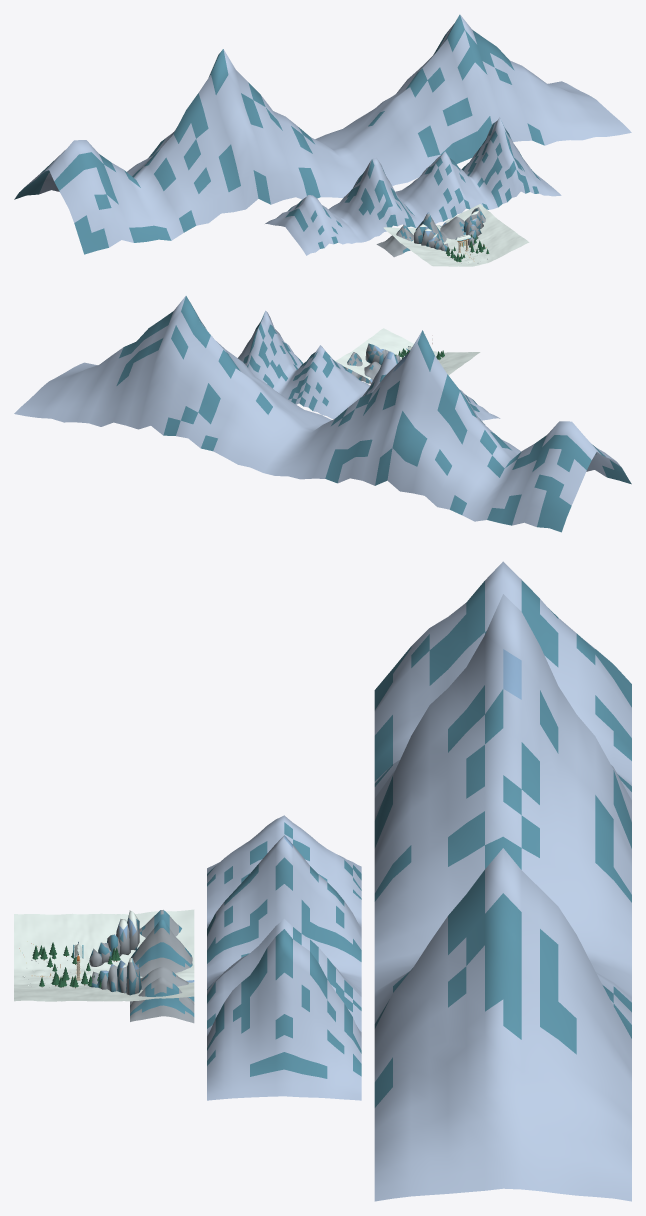
The model's file is SP_snowpass.glb.
3 views of the same model, one above another, from view 1: azimuth 30°, elevation 25°; view 2: azimuth 150°, elevation 25°; view 3: azimuth 270°, elevation 25° (orthographic). The views are drawn at different scales.
Parts seen in each view (by area): view 1: SP_mtn_far, SP_ground, SP_mtn_mid, SP_mtn_near; view 2: SP_mtn_far, SP_ground, SP_mtn_mid, SP_mtn_near; view 3: SP_mtn_far, SP_ground, SP_mtn_mid, SP_mtn_near, SP_pines.
Boxes of the visible parts, bbox=[...] form: SP_mtn_far: bbox=[14, 14, 631, 255]; SP_ground: bbox=[383, 204, 529, 266]; SP_mtn_mid: bbox=[376, 207, 485, 257]; SP_mtn_near: bbox=[414, 210, 483, 251]; SP_mtn_far: bbox=[14, 296, 631, 532]; SP_ground: bbox=[335, 328, 480, 382]; SP_mtn_mid: bbox=[344, 352, 403, 383]; SP_mtn_near: bbox=[365, 343, 400, 364]; SP_mtn_far: bbox=[207, 561, 631, 1201]; SP_ground: bbox=[14, 909, 194, 1001]; SP_mtn_mid: bbox=[130, 909, 194, 1023]; SP_mtn_near: bbox=[89, 910, 141, 995]; SP_pines: bbox=[32, 942, 120, 988].
Size of the model in its own units: 900 by 237 by 480.
1 material, 1 textured.
